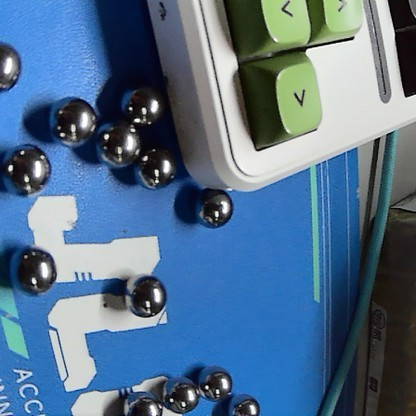ironball: (1, 142, 48, 204), (13, 241, 55, 302), (121, 270, 174, 318), (49, 93, 93, 149), (92, 117, 138, 167), (157, 364, 203, 413), (121, 84, 164, 131), (192, 186, 240, 228), (108, 378, 163, 414), (0, 30, 28, 93), (196, 357, 230, 401), (137, 144, 173, 185), (228, 388, 256, 414)
